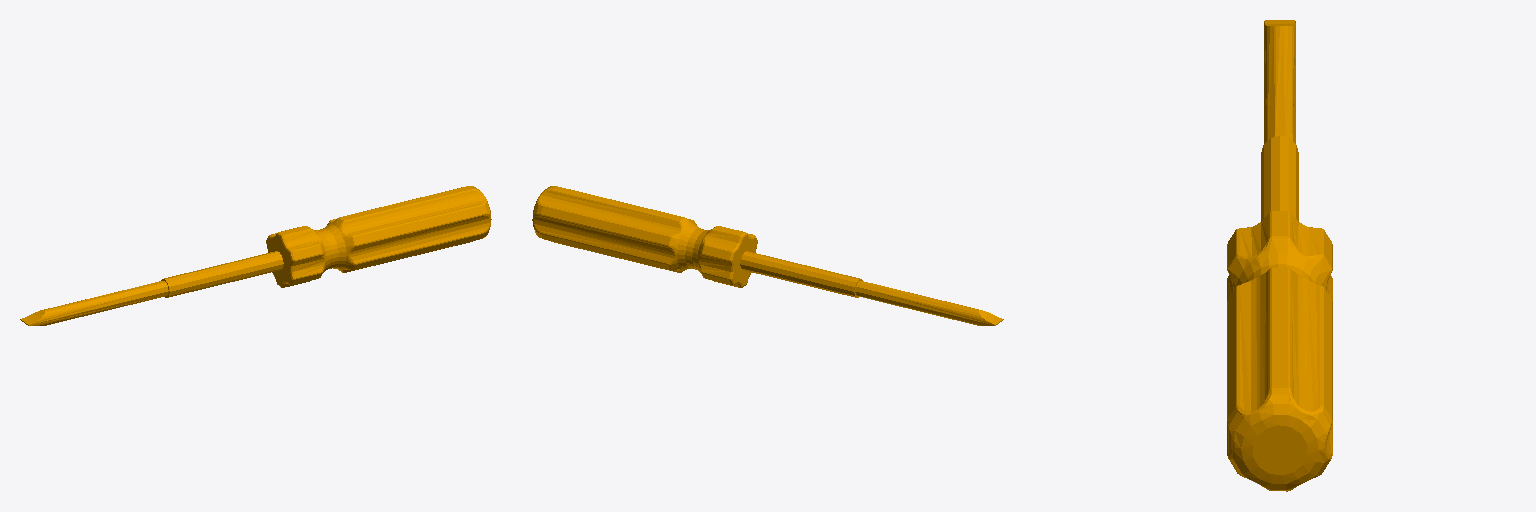
URDF robot description (screwdriver_2_L0.95_T0.95):
<?xml version="1.0" encoding="utf-8"?>
<robot name="screwdriver_2_L0.95_T0.95">
  <link name="screwdriver_2_L0.95_T0.95Link">
    <contact>
      <lateral_friction value="1"/>
    </contact>
    <inertial>
      <origin rpy="0 0 0" xyz="0 0 0"/>
      <mass value="0.0"/>
      <inertia ixx="0" ixy="0" ixz="0" iyy="0" iyz="0" izz="0"/>
    </inertial>
    <visual>
      <origin rpy="0 0 0" xyz="0 0 0"/>
      <geometry>
        <mesh filename="generated_stl/screwdriver/screwdriver_2/screwdriver_2_L0.95_T0.95/screwdriver_2_L0.95_T0.95.stl" scale="0.01 0.01 0.01"/>
      </geometry>
    </visual>
    <collision>
      <origin rpy="0 0 0" xyz="0 0 0"/>
      <geometry>
        <mesh filename="generated_stl/screwdriver/screwdriver_2/screwdriver_2_L0.95_T0.95/screwdriver_2_L0.95_T0.95.stl" scale="0.01 0.01 0.01"/>
      </geometry>
    </collision>
  </link>
</robot>

--- Facts derived from the render (not from the file) ---
The picture shows the robot from 3 angles, left to right: view 1: azimuth 30°, elevation 25°; view 2: azimuth 150°, elevation 25°; view 3: azimuth 270°, elevation 25°; orthographic projection.
Robot: screwdriver_2_L0.95_T0.95 — 1 links, 0 joints (none); root link screwdriver_2_L0.95_T0.95Link; default pose: every joint at zero.
Visible links, largest first — view 1: screwdriver_2_L0.95_T0.95Link; view 2: screwdriver_2_L0.95_T0.95Link; view 3: screwdriver_2_L0.95_T0.95Link.
Link boxes in pixels (x1,y1,x2,y2): screwdriver_2_L0.95_T0.95Link: (20, 186, 491, 325); screwdriver_2_L0.95_T0.95Link: (532, 186, 1003, 325); screwdriver_2_L0.95_T0.95Link: (1227, 20, 1332, 491).
Size in the robot's own frame: 0.095 by 0.0099 by 0.0104 metres.
Meshes: 1 distinct files referenced, 1 mesh visuals loaded (1 binary STL).